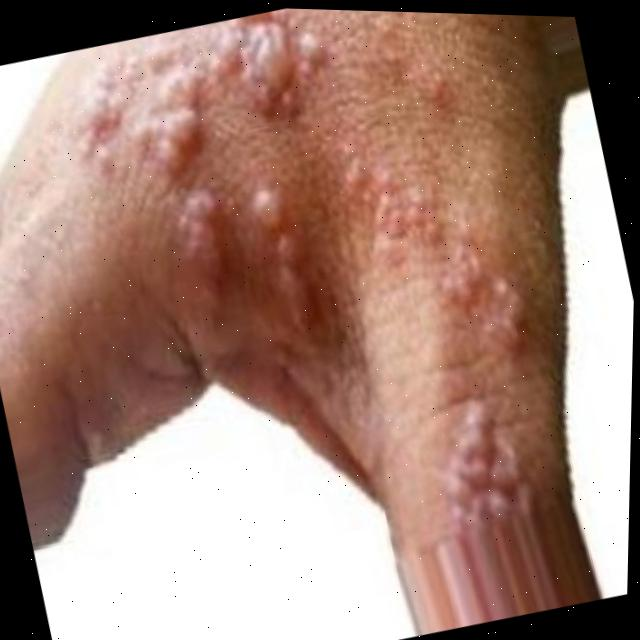Shingles: (70, 2, 349, 327), (358, 154, 516, 366), (415, 392, 532, 536)
